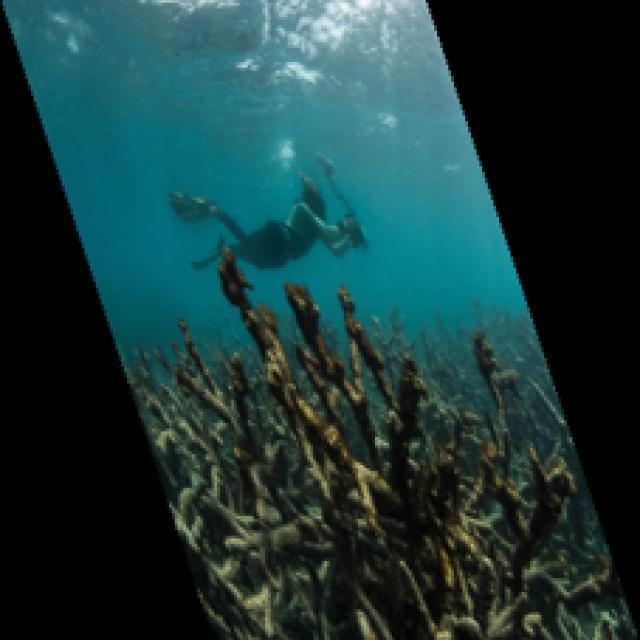Dead Coral: (136, 277, 596, 640)
